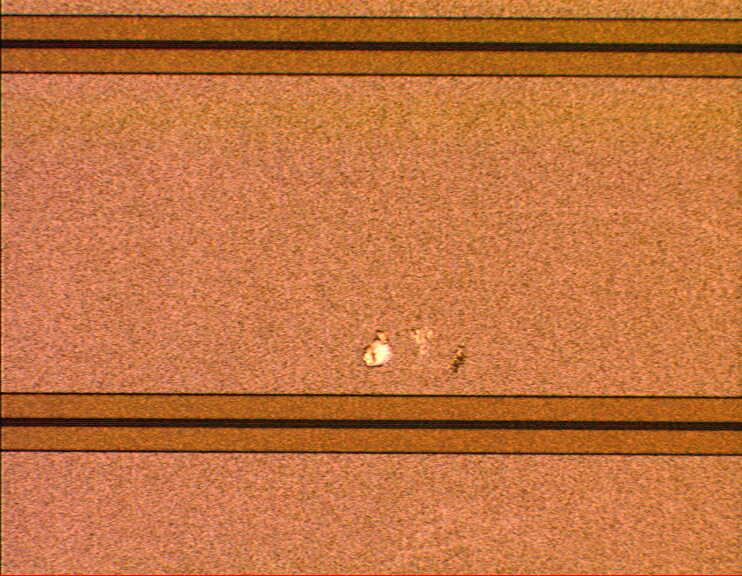SCRATCH: (343, 318, 485, 377)
